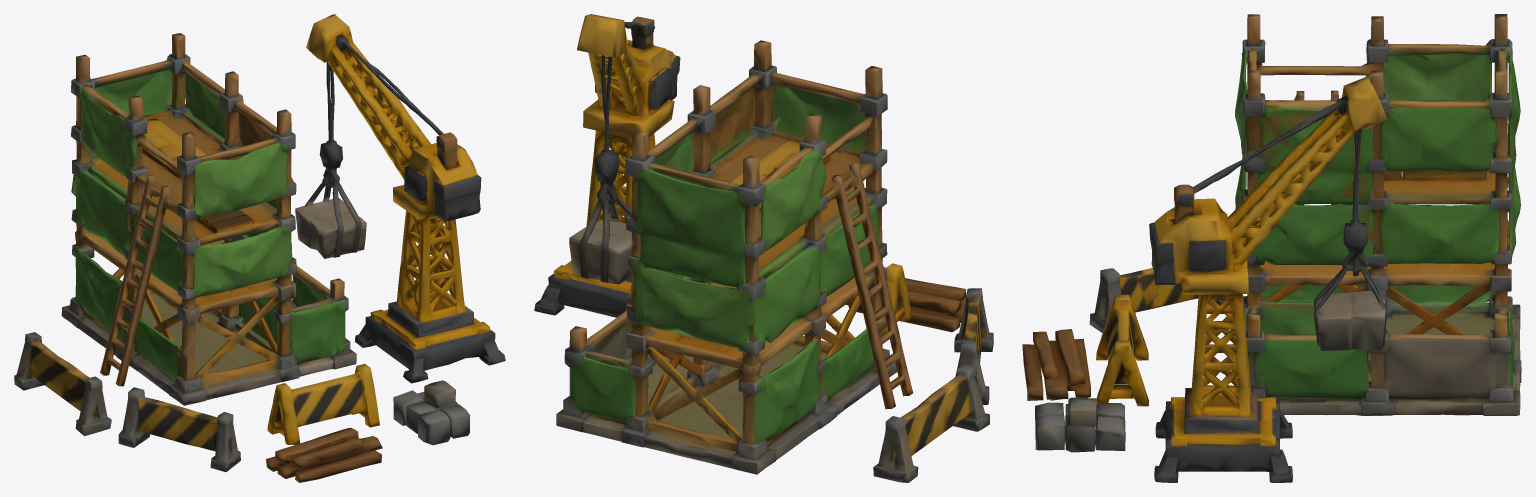
The model's file is construction_site.glb.
3 views of the same model, side by side, from view 1: azimuth 30°, elevation 25°; view 2: azimuth 150°, elevation 25°; view 3: azimuth 270°, elevation 25° (orthographic). The views are drawn at different scales.
Visible parts, largest first — view 1: tripo_node_c000247d-3202-48a2-ad05-3087d71060b6; view 2: tripo_node_c000247d-3202-48a2-ad05-3087d71060b6; view 3: tripo_node_c000247d-3202-48a2-ad05-3087d71060b6.
Boxes of the visible parts, <box> form: tripo_node_c000247d-3202-48a2-ad05-3087d71060b6: <box>14,14,505,482</box>; tripo_node_c000247d-3202-48a2-ad05-3087d71060b6: <box>534,14,993,482</box>; tripo_node_c000247d-3202-48a2-ad05-3087d71060b6: <box>1022,14,1521,482</box>.
Bounding box in the file's own units: 1 × 0.7963 × 0.9725.
Materials: 1 (1 with a texture image).
